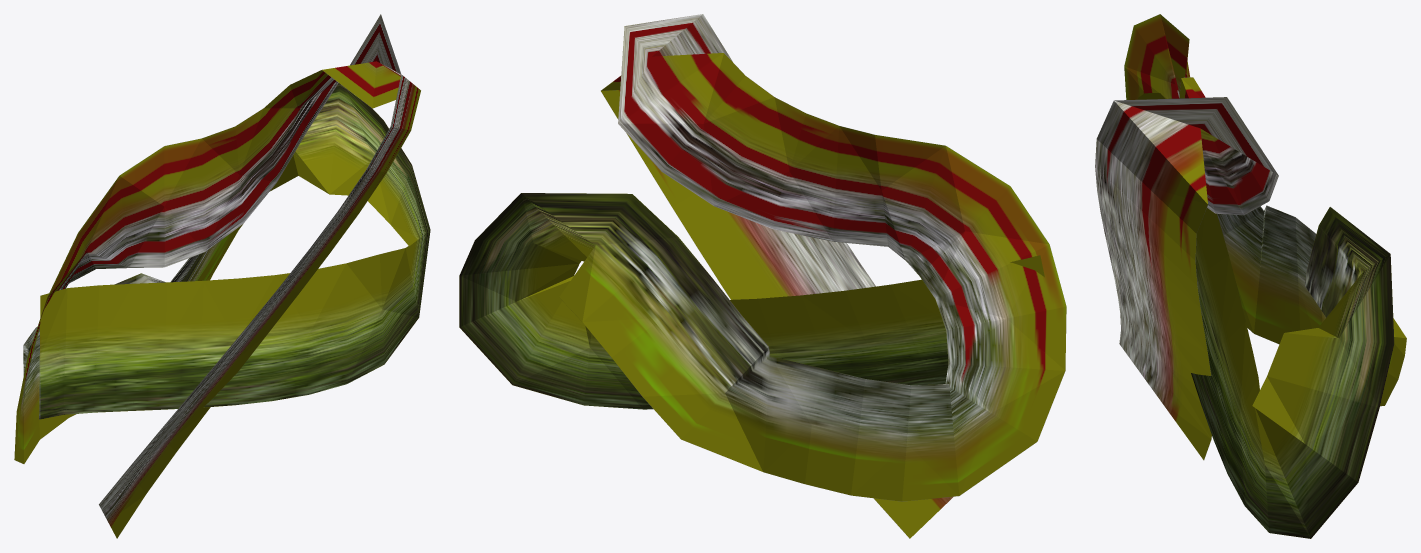
Rendered from flow.obj.
3 views of the same model, side by side, from view 1: azimuth 30°, elevation 25°; view 2: azimuth 150°, elevation 25°; view 3: azimuth 270°, elevation 25° (orthographic). The views are drawn at different scales.
Bounding box in the file's own units: 8.87 × 7.52 × 4.11.
